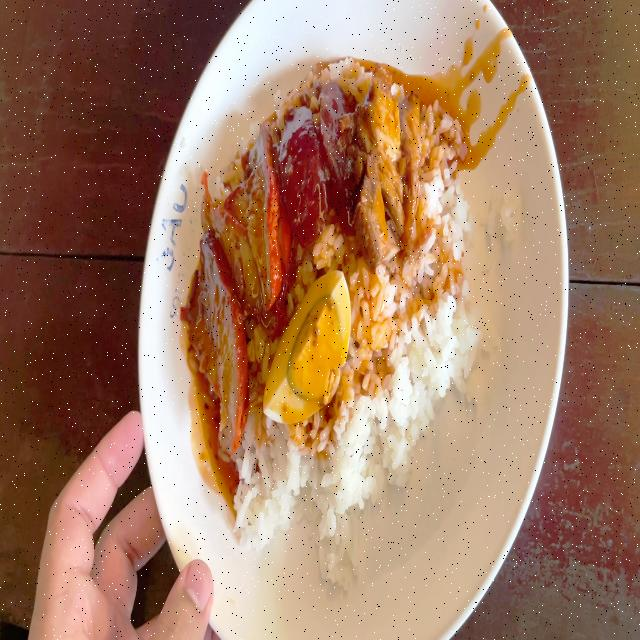boiled_egg: (273, 272, 344, 424)
chainese_sausage: (283, 82, 354, 236)
crispy_pork: (369, 73, 424, 263)
red_pork: (200, 138, 273, 438)
red_pork_and_crispy_pork: (187, 60, 473, 542)
rice: (356, 265, 473, 500)
